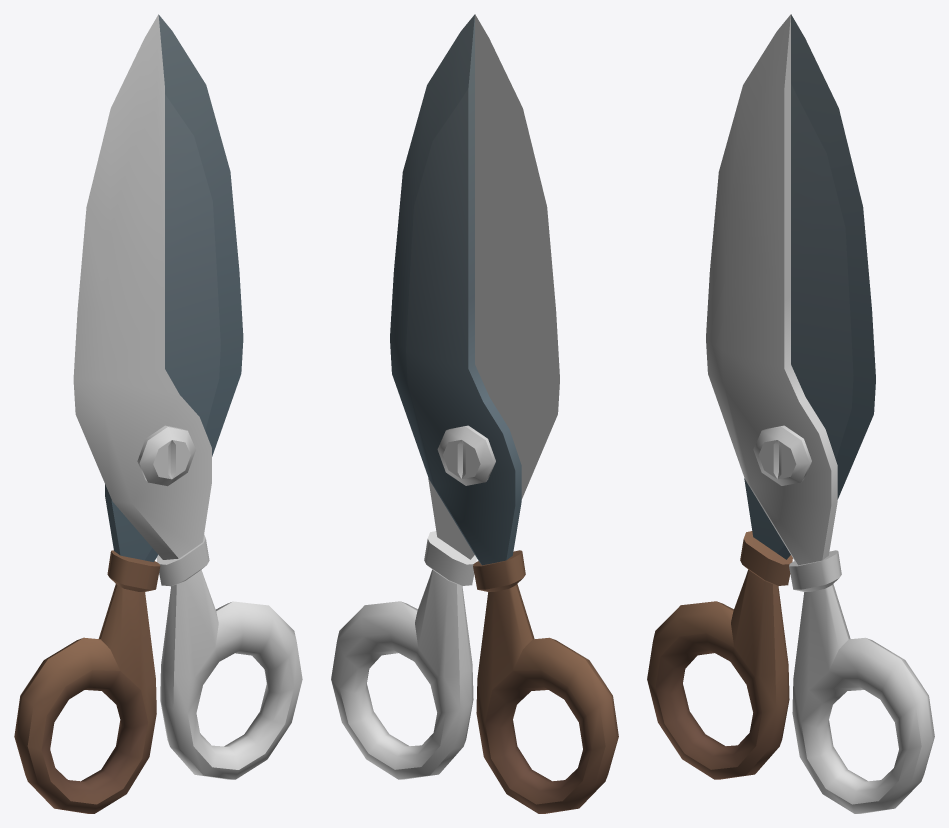
Rendered from KT_scissors.glb.
3 views of the same model, side by side, from view 1: azimuth 30°, elevation 25°; view 2: azimuth 150°, elevation 25°; view 3: azimuth 330°, elevation 25° (orthographic).
Parts seen in each view (by area): view 1: scissors, scissors_part; view 2: scissors_part, scissors; view 3: scissors, scissors_part.
Boxes of the visible parts, bbox=[...] form: scissors: bbox=[73, 14, 302, 779]; scissors_part: bbox=[14, 14, 243, 813]; scissors_part: bbox=[390, 14, 618, 813]; scissors: bbox=[331, 14, 559, 779]; scissors: bbox=[706, 14, 934, 813]; scissors_part: bbox=[647, 14, 875, 779].
Bounding box in the file's own units: 0.4554 × 1.2 × 0.0748.
